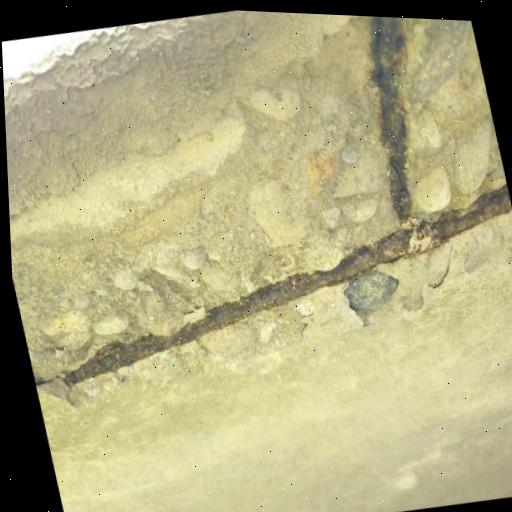exposed_rebar: (65, 17, 512, 382)
